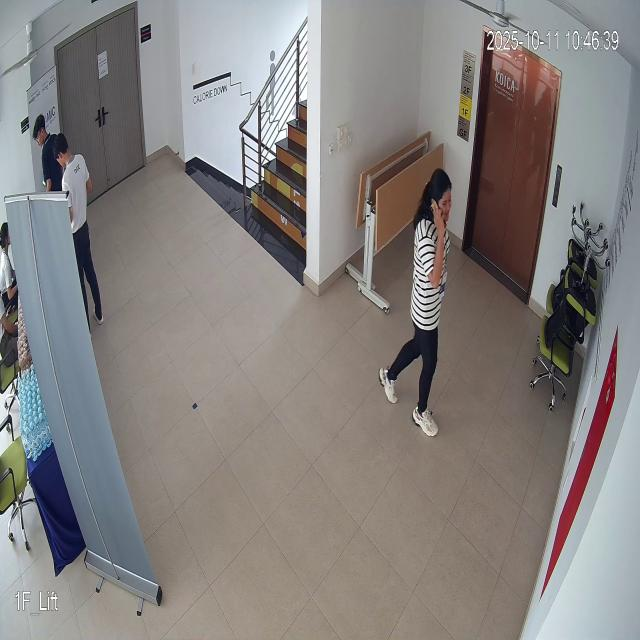face: (424, 154, 457, 234)
